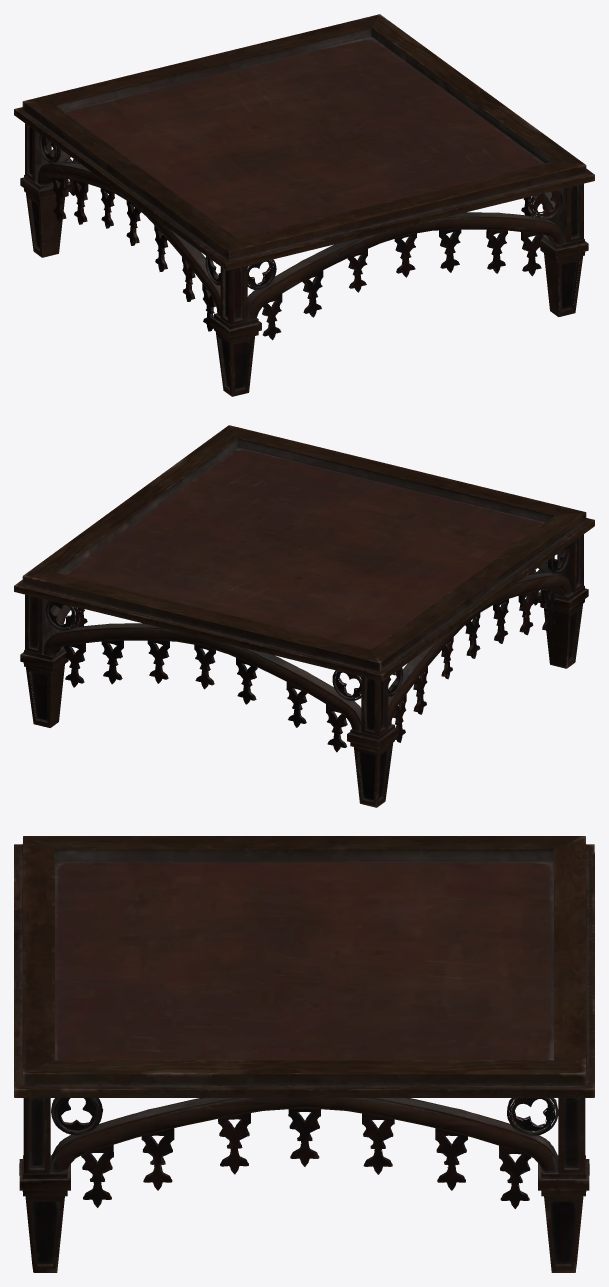
Rendered from gothic_coffee_table.glb.
The picture shows the model from 3 angles, top to bottom: view 1: azimuth 30°, elevation 25°; view 2: azimuth 150°, elevation 25°; view 3: azimuth 270°, elevation 25°; orthographic projection. The views are drawn at different scales.
Parts seen in each view (by area): view 1: gothic_coffee_table; view 2: gothic_coffee_table; view 3: gothic_coffee_table.
Part boxes in pixels (<box>): gothic_coffee_table: <box>14,14,594,396</box>; gothic_coffee_table: <box>14,425,594,807</box>; gothic_coffee_table: <box>14,836,594,1272</box>.
Size of the model in its own units: 1.44 by 0.558 by 1.44.
Materials: 1 (1 with a texture image).
